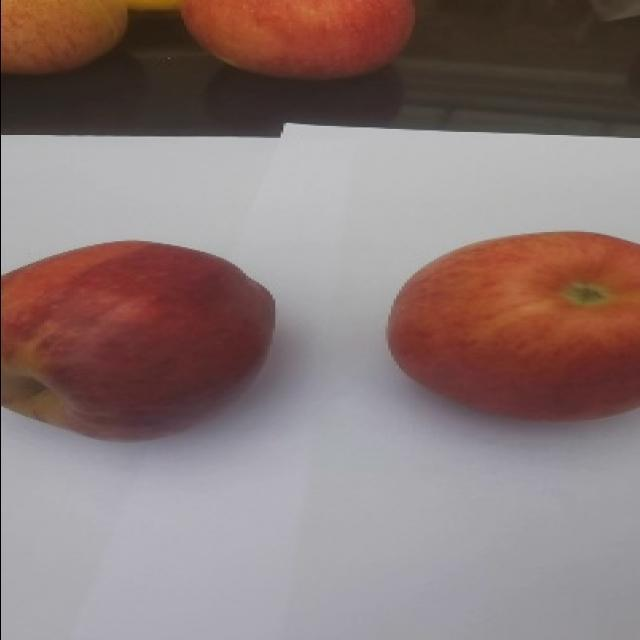Apple: (0, 238, 276, 441), (386, 230, 639, 422), (179, 0, 416, 80), (0, 0, 128, 75)
